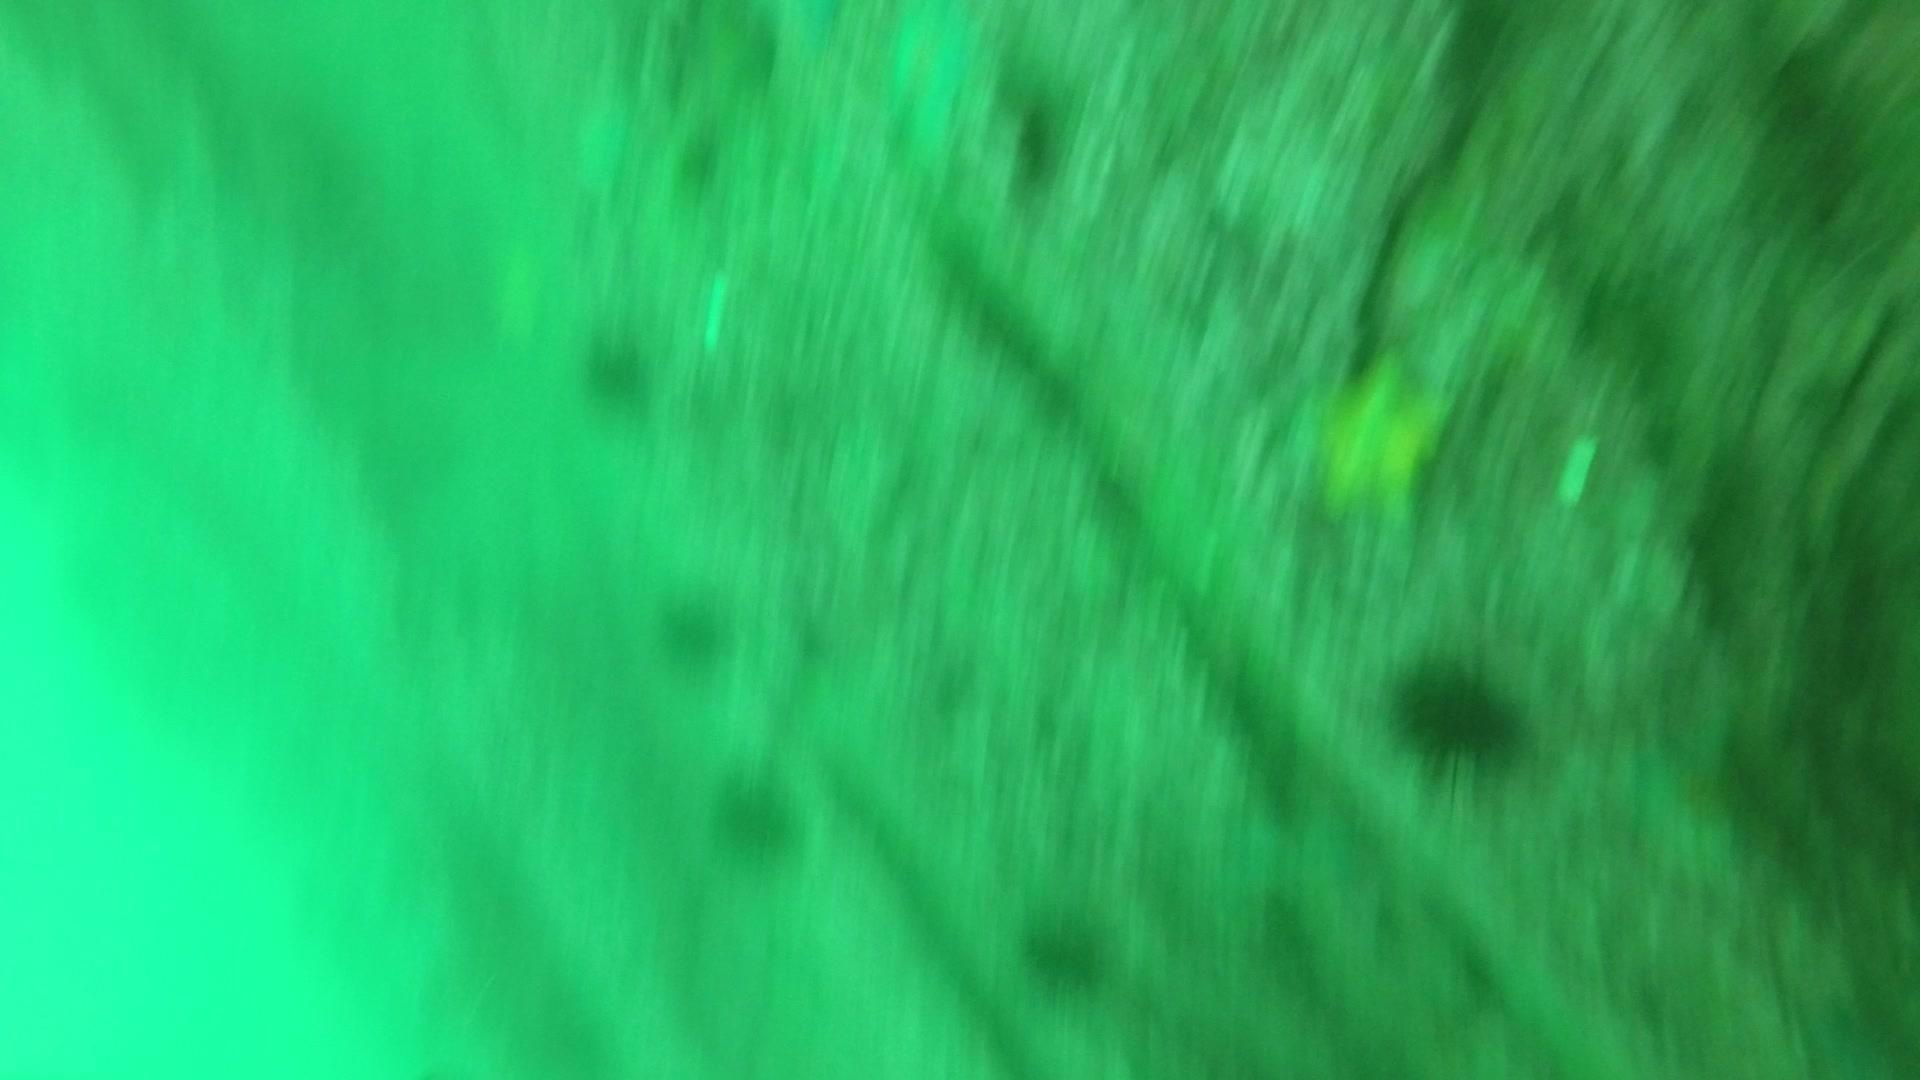echinus: (1382, 649, 1534, 785), (705, 764, 807, 866), (1013, 901, 1118, 1000), (574, 326, 659, 415), (650, 585, 735, 675)
starfish: (1288, 347, 1465, 545), (1613, 721, 1758, 884), (868, 4, 994, 164)
